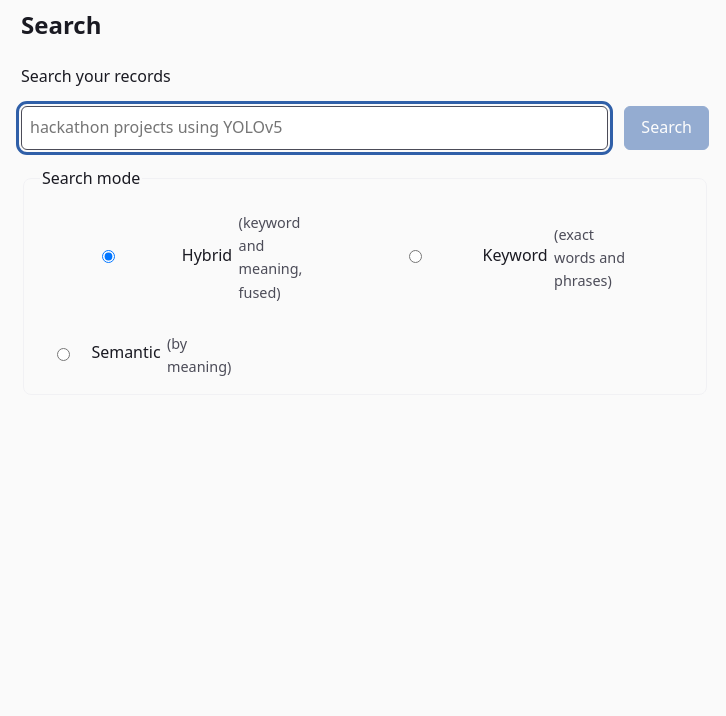
Test: SearchPage (MVP-018; FS-004; NFR-043; ACCESSIBILITY 4.3/4.5) › notes truncation of very long queries
Type "zebra" into the search field labelled "Search your records". click: (315, 128)
box: [21,106,608,150]
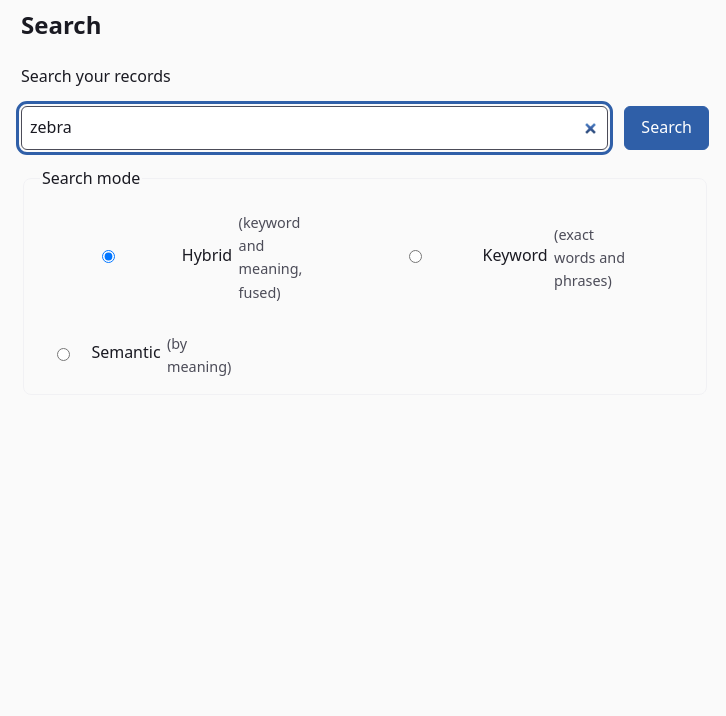
Click the button "Search". click: (667, 128)
box: [624,106,709,150]
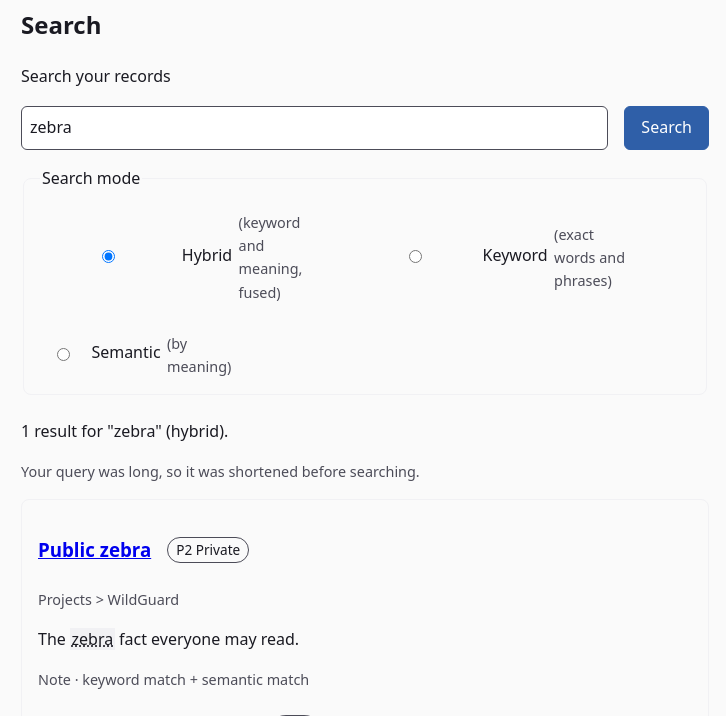
Now the text "Your query was long, so it was shortened before searching." is shown, box [21,462,420,481]
